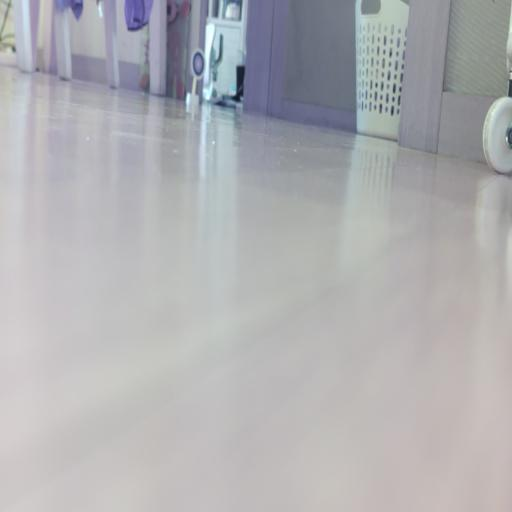target: (190, 48, 205, 82)
